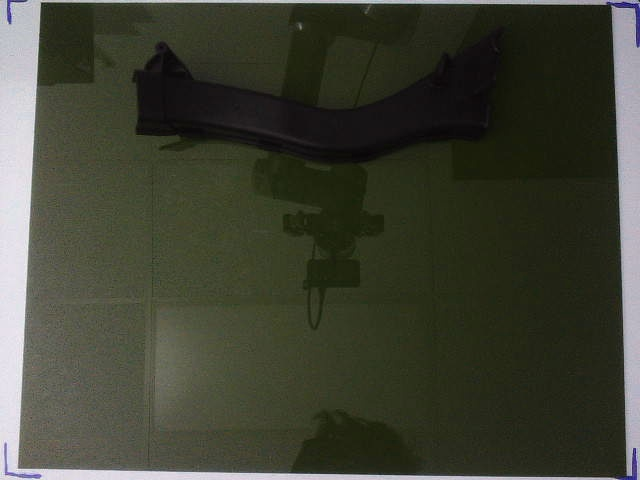887_A-Top: (132, 27, 505, 154)
